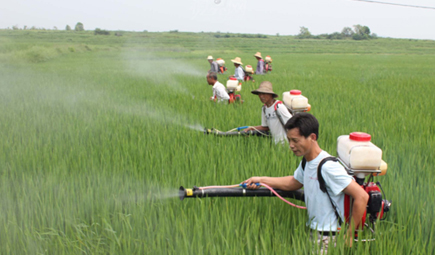berrl: (336, 131, 391, 238), (281, 89, 311, 121), (225, 77, 242, 107), (244, 65, 256, 83), (262, 54, 272, 74), (216, 57, 227, 73)
